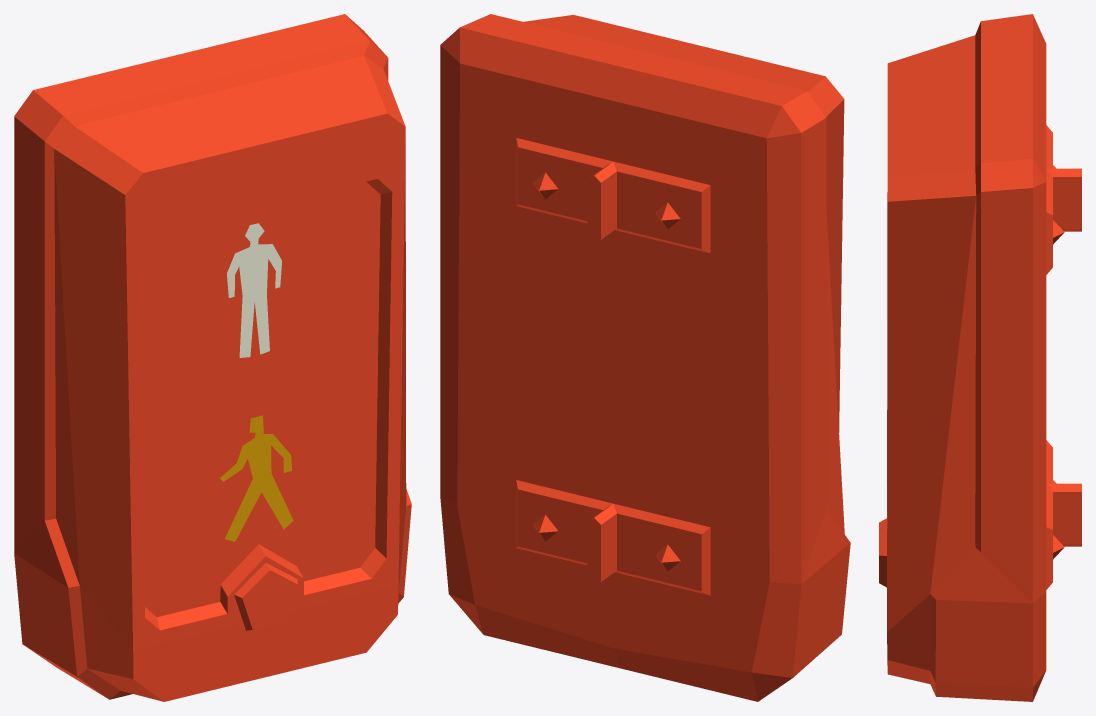
The model's file is SM_Light_Pedestrian_City.fbx.
3 views of the same model, side by side, from view 1: azimuth 30°, elevation 25°; view 2: azimuth 150°, elevation 25°; view 3: azimuth 270°, elevation 25° (orthographic). The views are drawn at different scales.
Visible parts, largest first — view 1: SM_Light_Pedestrian_City; view 2: SM_Light_Pedestrian_City; view 3: SM_Light_Pedestrian_City.
Part boxes in pixels (x1,y1,x2,y2): SM_Light_Pedestrian_City: (14,14,411,701); SM_Light_Pedestrian_City: (440,14,850,701); SM_Light_Pedestrian_City: (879,14,1081,701).
Size of the model in its own units: 0.2141 by 0.3409 by 0.1132.
